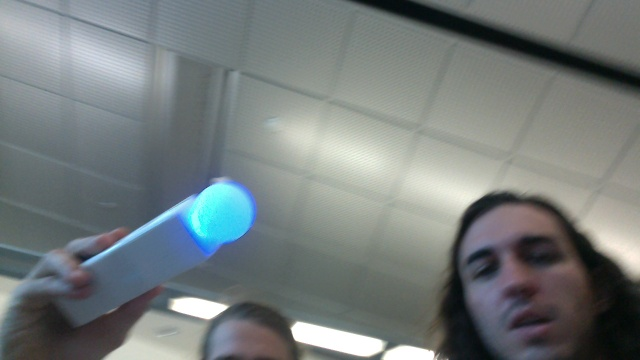wand: (192, 184, 253, 242)
